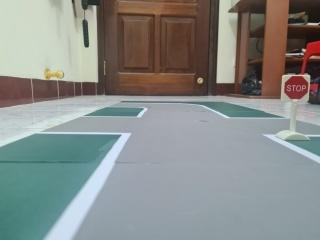stop: (279, 72, 311, 106)
